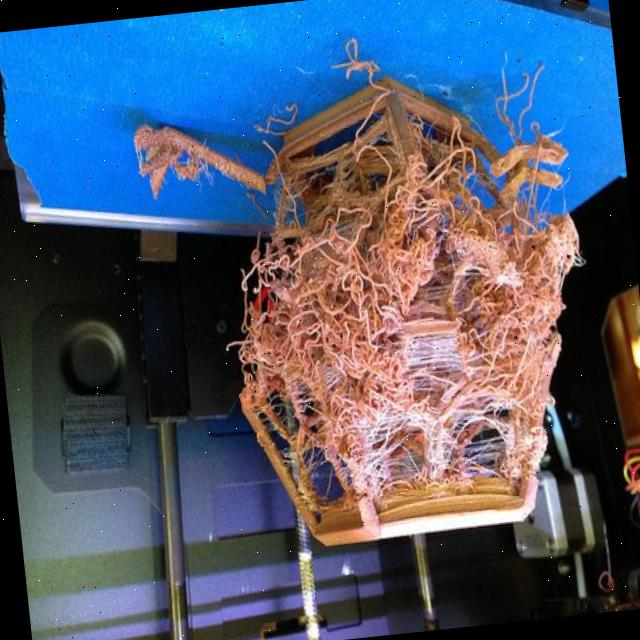spaghetti: (216, 38, 604, 504)
